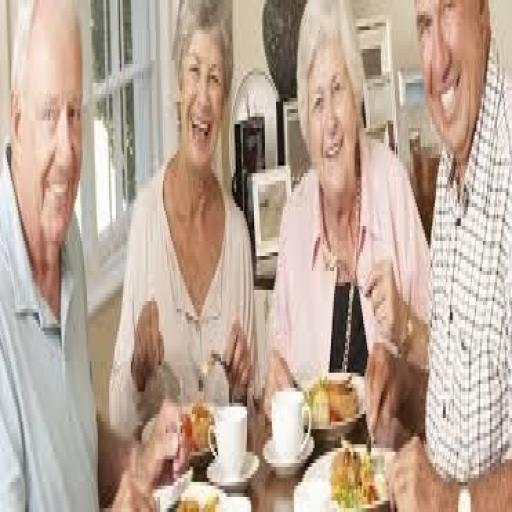eating: (0, 0, 185, 508), (363, 0, 511, 508), (261, 0, 432, 422), (108, 0, 260, 444)
